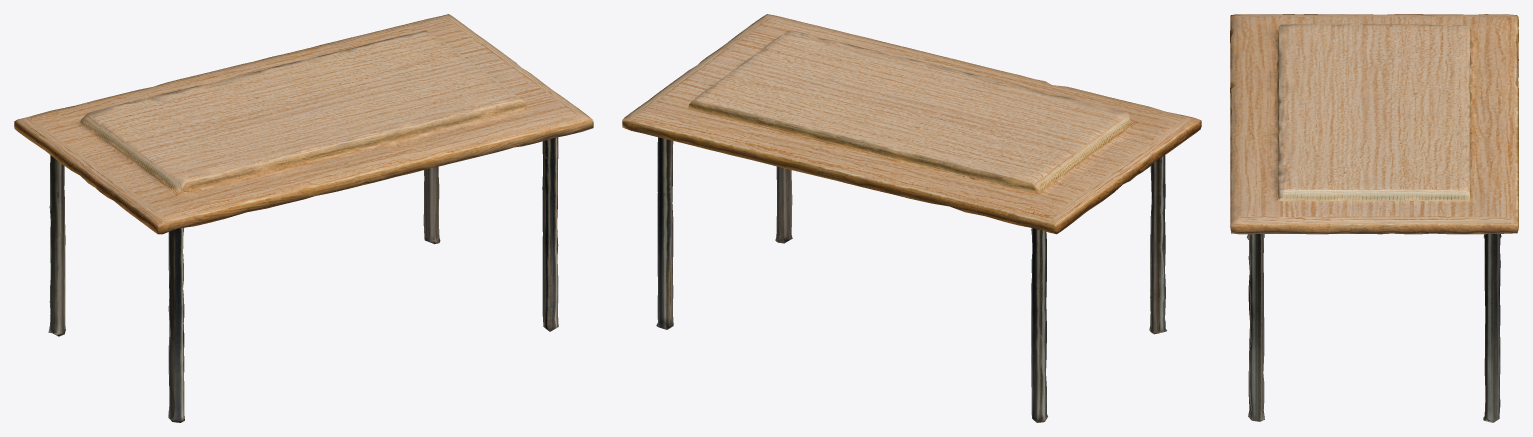
Rendered from Table_Original.glb.
3 renders of one model, left to right at view 1: azimuth 30°, elevation 25°; view 2: azimuth 150°, elevation 25°; view 3: azimuth 270°, elevation 25°, orthographic.
Parts seen in each view (by area): view 1: texture_mapping; view 2: texture_mapping; view 3: texture_mapping.
Boxes of the visible parts, box(x1,y1,x2,y2) form: texture_mapping: box(14, 14, 593, 422); texture_mapping: box(622, 14, 1201, 422); texture_mapping: box(1230, 14, 1518, 422).
Size of the model in its own units: 0.9962 by 0.4896 by 0.5756.
1 material, 1 textured.
